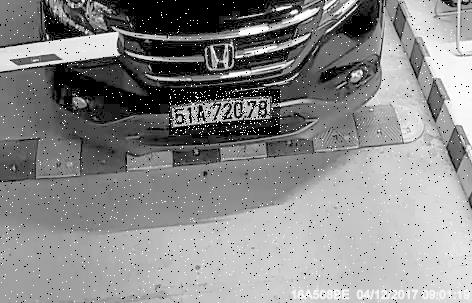License-plate: (171, 90, 283, 136)
